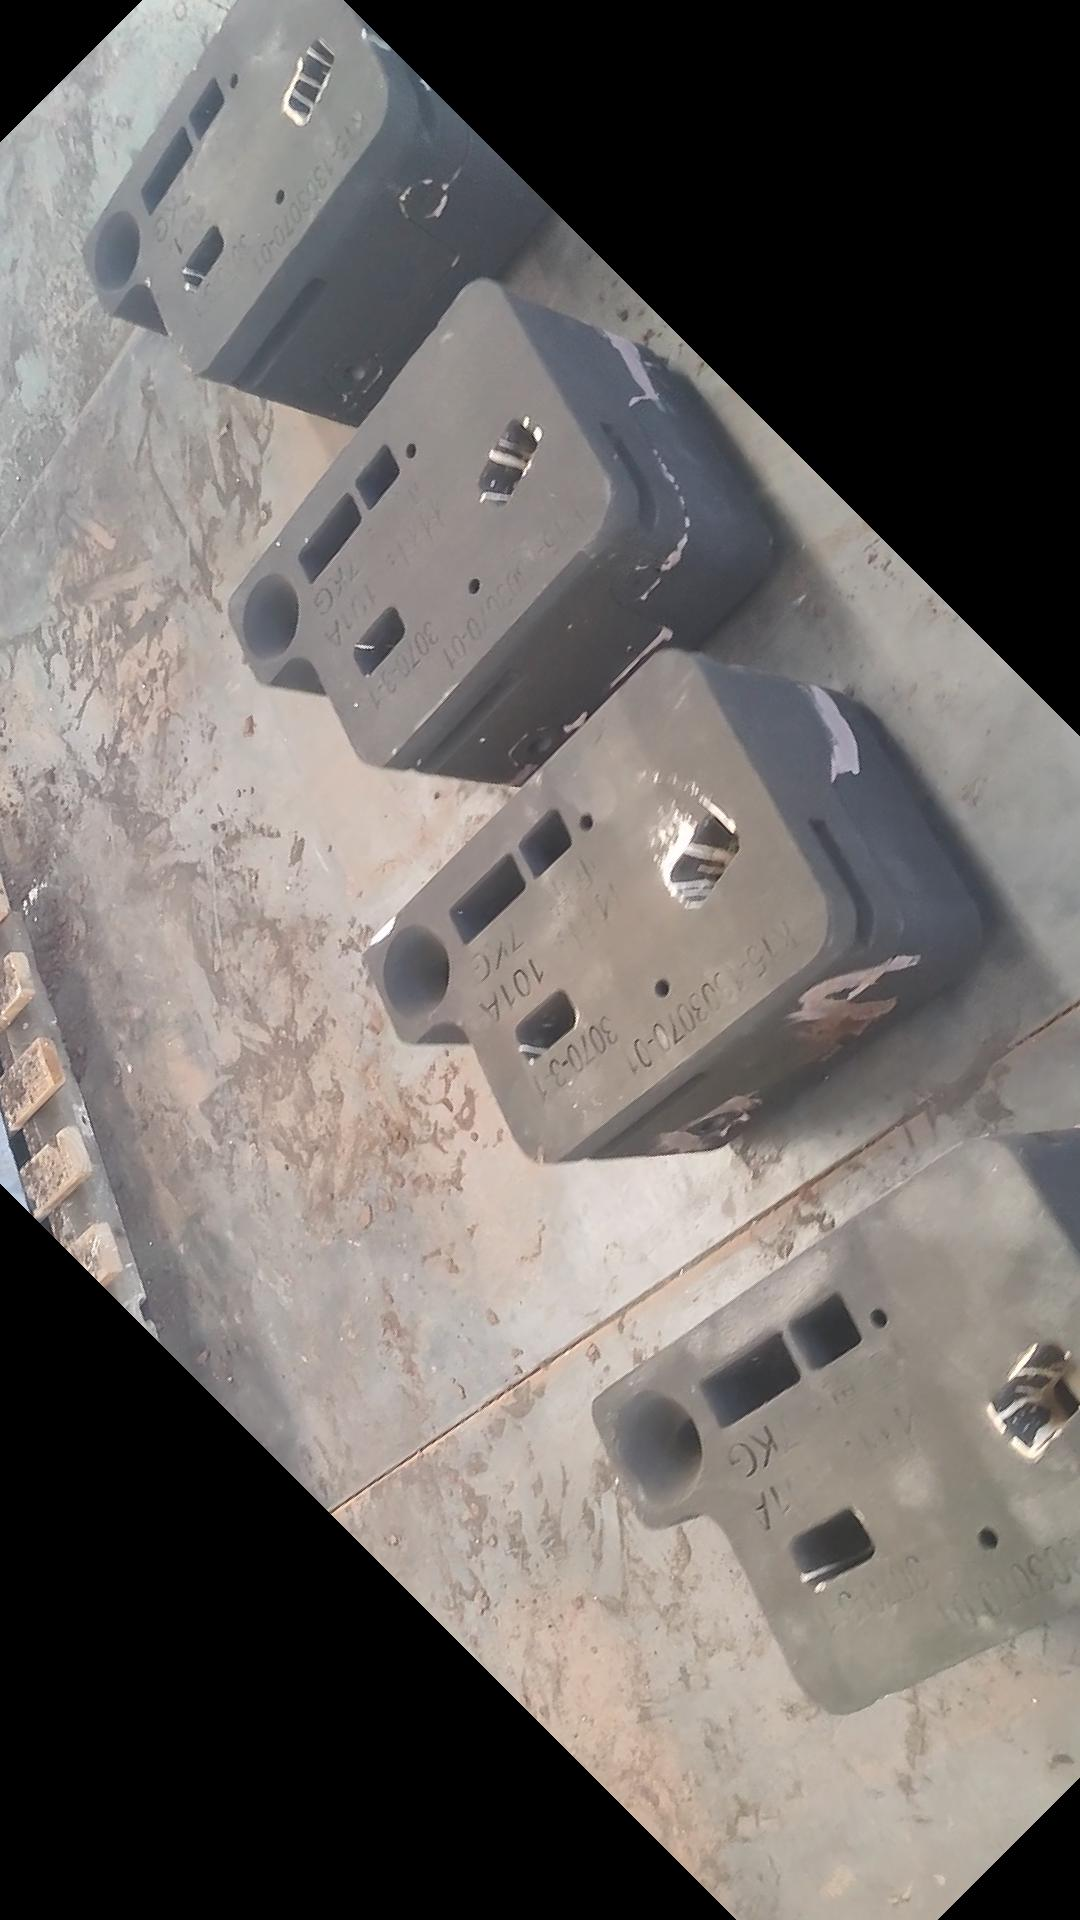pouring hole: (611, 1389, 704, 1506), (382, 924, 451, 1015), (243, 570, 295, 661), (86, 208, 138, 291)
